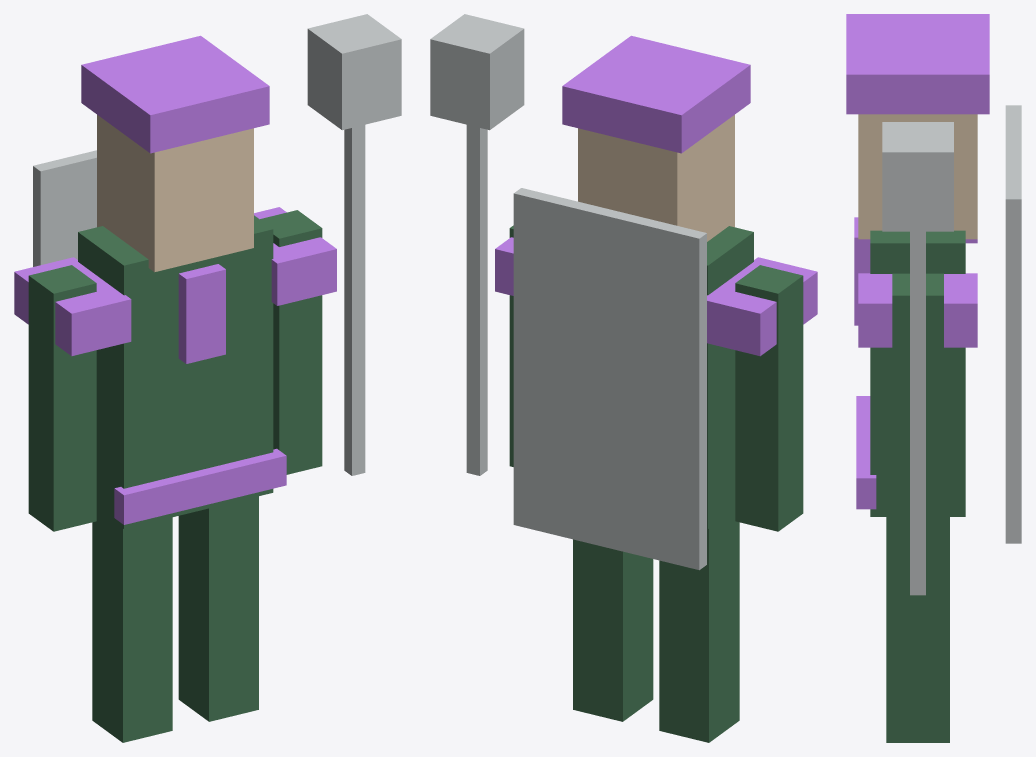
File: 07_pax_glassroot_herald_of.glb
The picture shows the model from 3 angles, left to right: view 1: azimuth 30°, elevation 25°; view 2: azimuth 150°, elevation 25°; view 3: azimuth 270°, elevation 25°; orthographic projection. The views are drawn at different scales.
Visible parts, largest first — view 1: Pax Glassroot, Herald of; view 2: Pax Glassroot, Herald of; view 3: Pax Glassroot, Herald of.
Boxes of the visible parts, x1=… form: Pax Glassroot, Herald of: x1=14, y1=14, x2=401, y2=742; Pax Glassroot, Herald of: x1=430, y1=14, x2=817, y2=742; Pax Glassroot, Herald of: x1=846, y1=14, x2=1021, y2=742.
Bounding box in the file's own units: 0.9534 × 1.7 × 0.4053.
